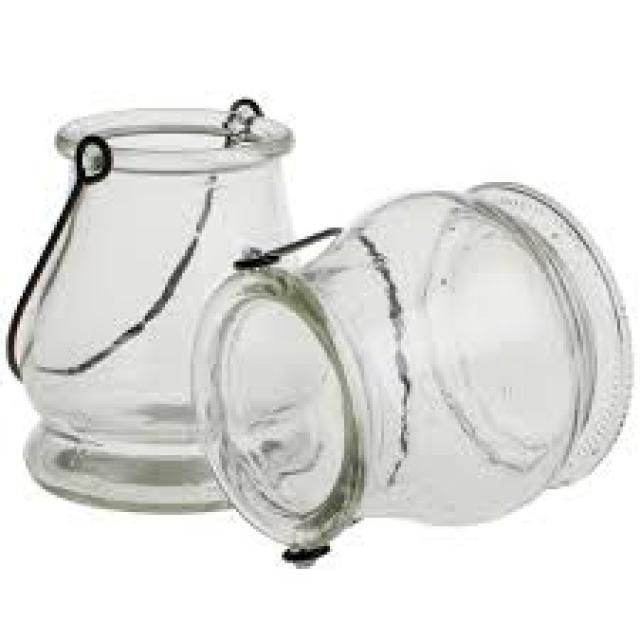glass: (188, 179, 626, 549), (17, 102, 299, 512)
